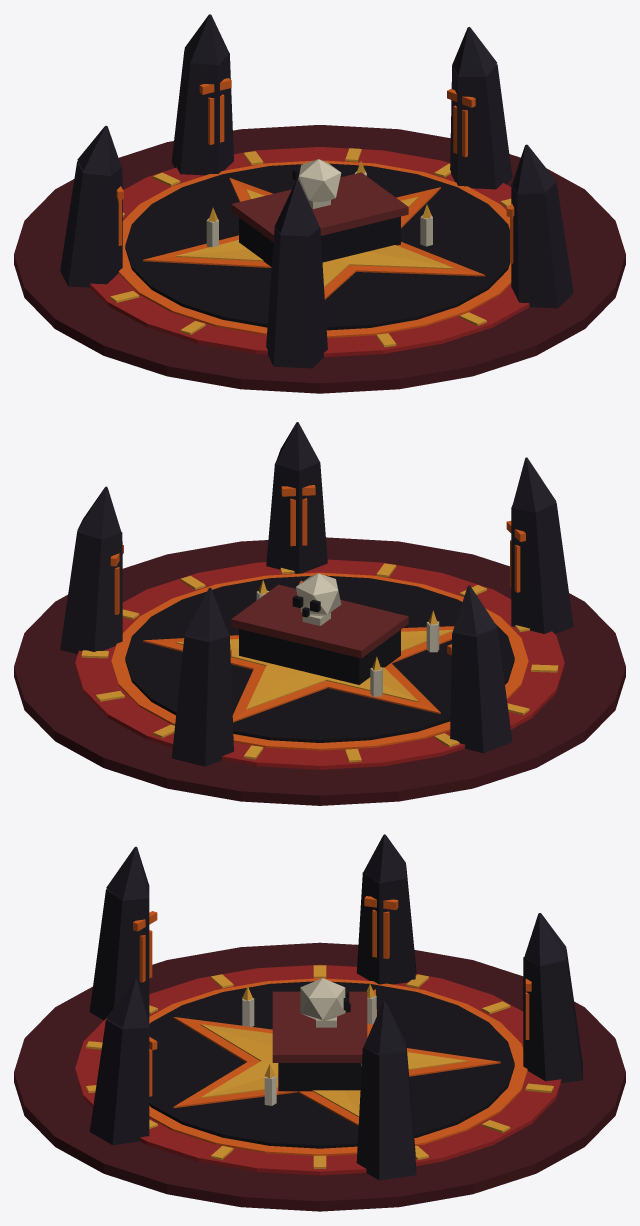
The model's file is Decor_HellGate_RitualCircle.fbx.
3 views of the same model, one above another, from view 1: azimuth 30°, elevation 25°; view 2: azimuth 150°, elevation 25°; view 3: azimuth 270°, elevation 25° (orthographic).
Parts seen in each view (by area): view 1: RitualCircle_Body; view 2: RitualCircle_Body; view 3: RitualCircle_Body.
Boxes of the visible parts, x1,y1,x2,y2 form: RitualCircle_Body: (14,14,625,393); RitualCircle_Body: (14,422,625,805); RitualCircle_Body: (14,834,625,1211).
Bounding box in the file's own units: 22 × 7.11 × 22.
